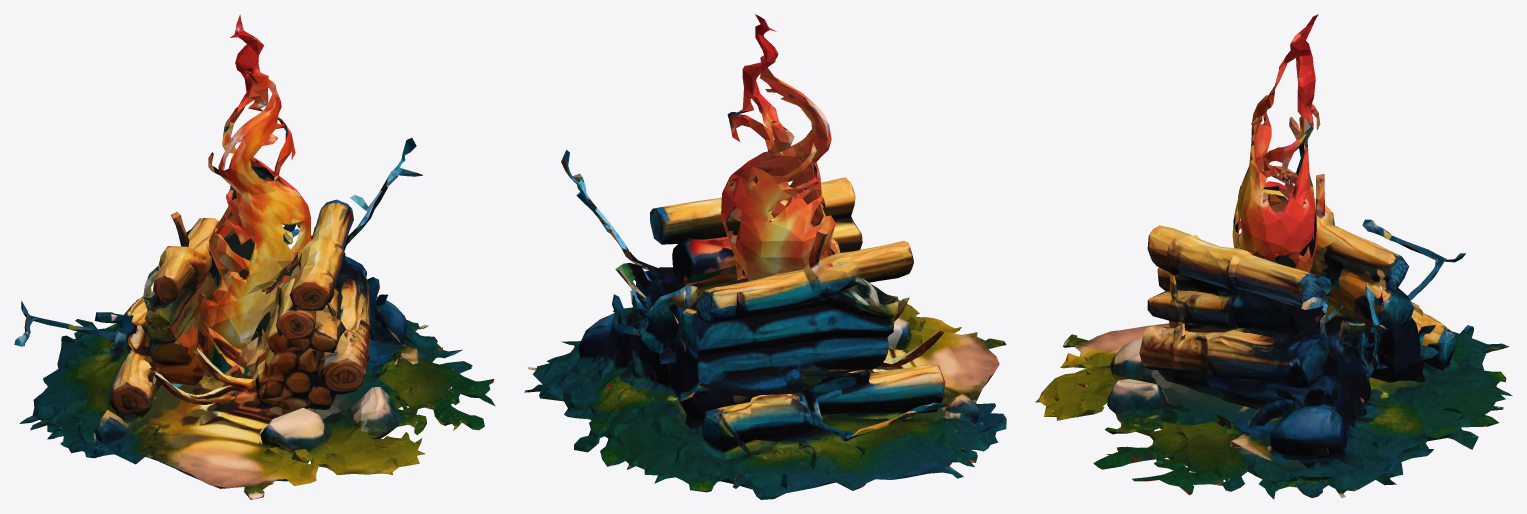
File: campfire.glb
3 renders of one model, left to right at view 1: azimuth 30°, elevation 25°; view 2: azimuth 150°, elevation 25°; view 3: azimuth 270°, elevation 25°, orthographic. The views are drawn at different scales.
Visible parts, largest first — view 1: tmpo1sn9m4r.ply; view 2: tmpo1sn9m4r.ply; view 3: tmpo1sn9m4r.ply.
Boxes of the visible parts, x1=… form: tmpo1sn9m4r.ply: x1=14, y1=14, x2=495, y2=499; tmpo1sn9m4r.ply: x1=524, y1=14, x2=1006, y2=499; tmpo1sn9m4r.ply: x1=1035, y1=14, x2=1512, y2=499.
Size of the model in its own units: 1.98 by 1.73 by 1.93.
Materials: 1 (1 with a texture image).
